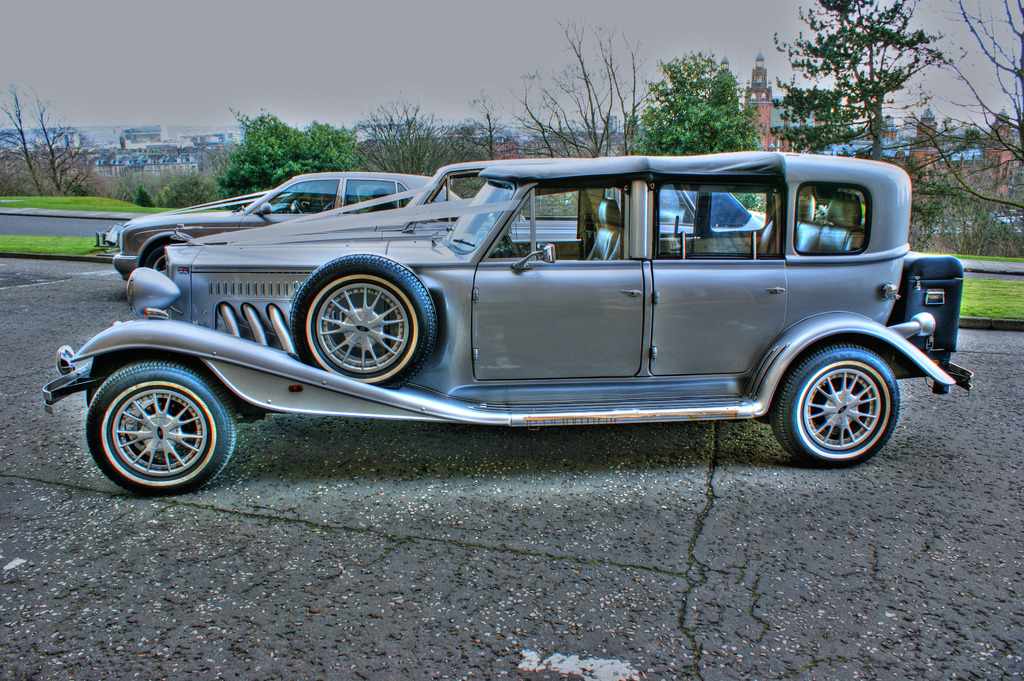Car: (34, 151, 990, 500), (133, 158, 766, 314), (83, 161, 519, 285)
